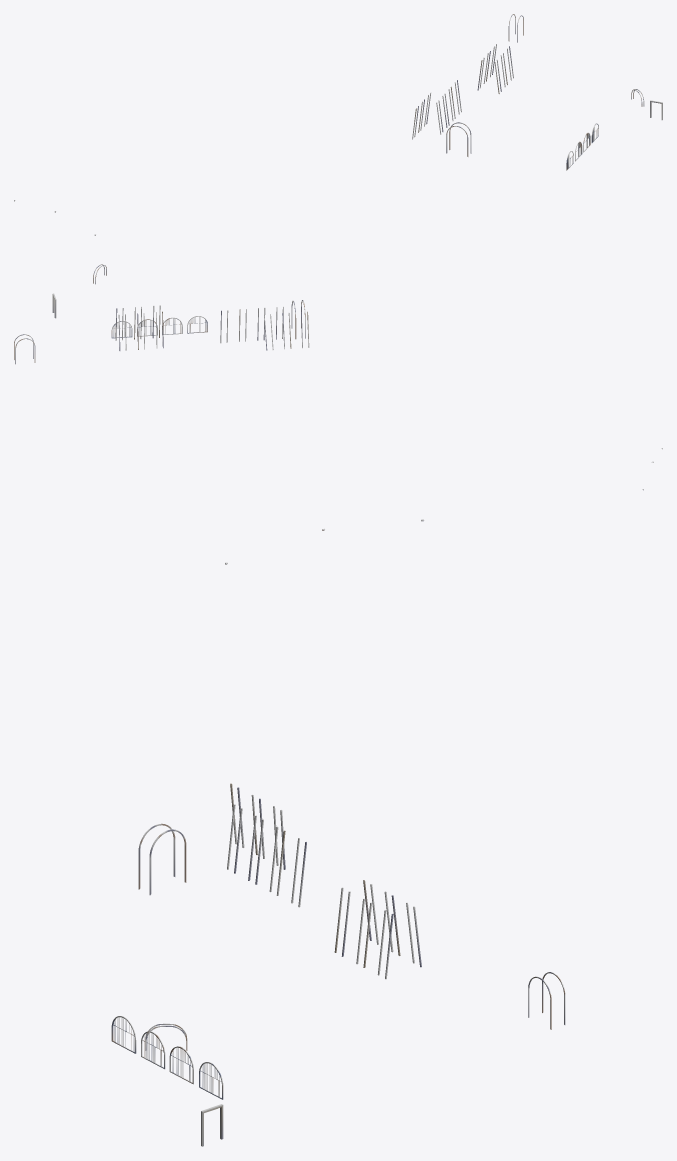
File: ferrures.glb
The picture shows the model from 3 angles, top to bottom: view 1: azimuth 30°, elevation 25°; view 2: azimuth 150°, elevation 25°; view 3: azimuth 270°, elevation 25°; orthographic projection. The views are drawn at different scales.
Parts seen in each view (by area): view 1: FERRURES; view 2: FERRURES; view 3: FERRURES.
Boxes of the visible parts, x1,y1,x2,y2 form: FERRURES: [14, 14, 662, 235]; FERRURES: [14, 264, 662, 490]; FERRURES: [111, 519, 565, 1146].
Bounding box in the file's own units: 157 × 17.64 × 51.9.
